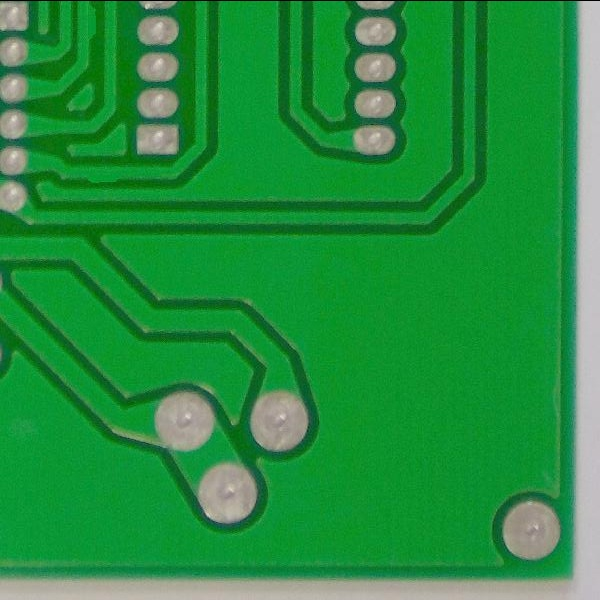spur: (80, 160, 121, 192), (75, 1, 100, 50)
